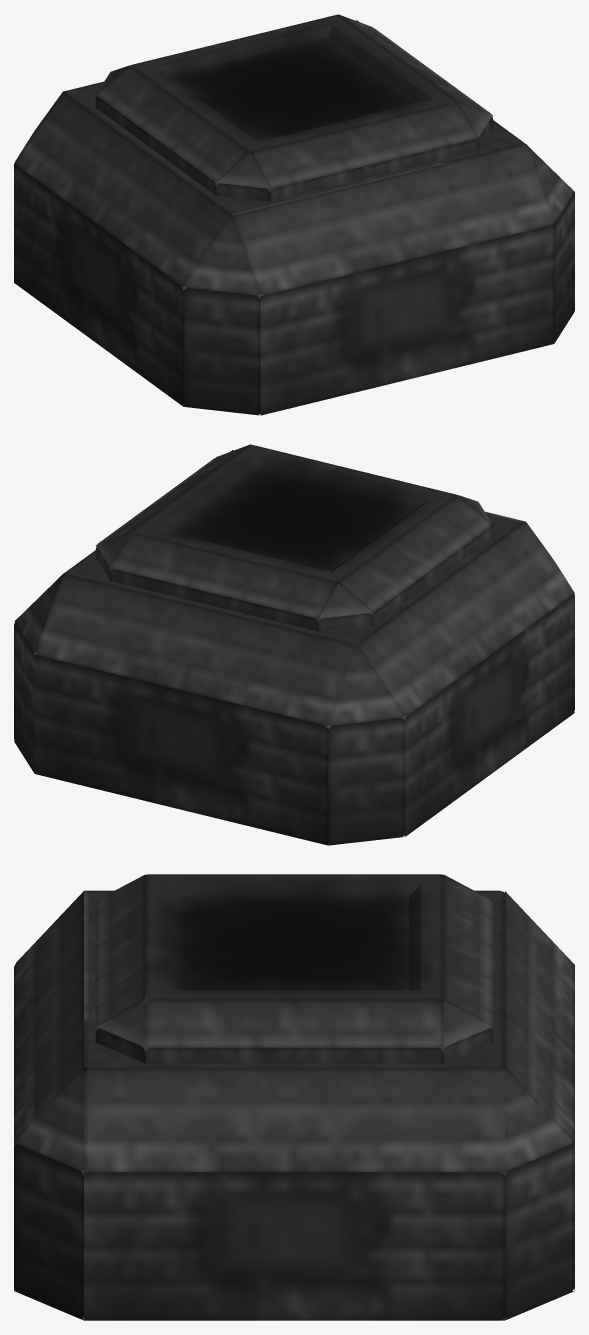
Rendered from coccer_oven.obj.
The picture shows the model from 3 angles, top to bottom: view 1: azimuth 30°, elevation 25°; view 2: azimuth 150°, elevation 25°; view 3: azimuth 270°, elevation 25°; orthographic projection. The views are drawn at different scales.
Visible parts, largest first — view 1: 2, 1; view 2: 2, 1; view 3: 2, 1.
Boxes of the visible parts, x1,y1,x2,y2 form: 2: [14, 20, 574, 415]; 1: [95, 14, 493, 218]; 2: [14, 450, 574, 845]; 1: [95, 444, 493, 648]; 2: [14, 890, 574, 1320]; 1: [95, 874, 493, 1063].
Bounding box in the file's own units: 3 × 1.56 × 3.
